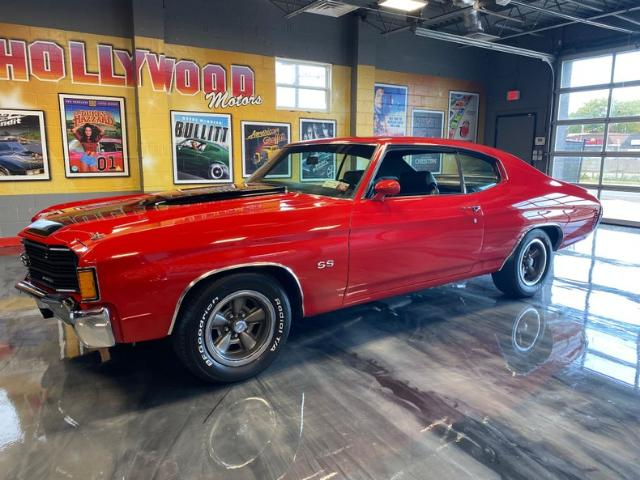chevelle-1972: (16, 137, 602, 383)
